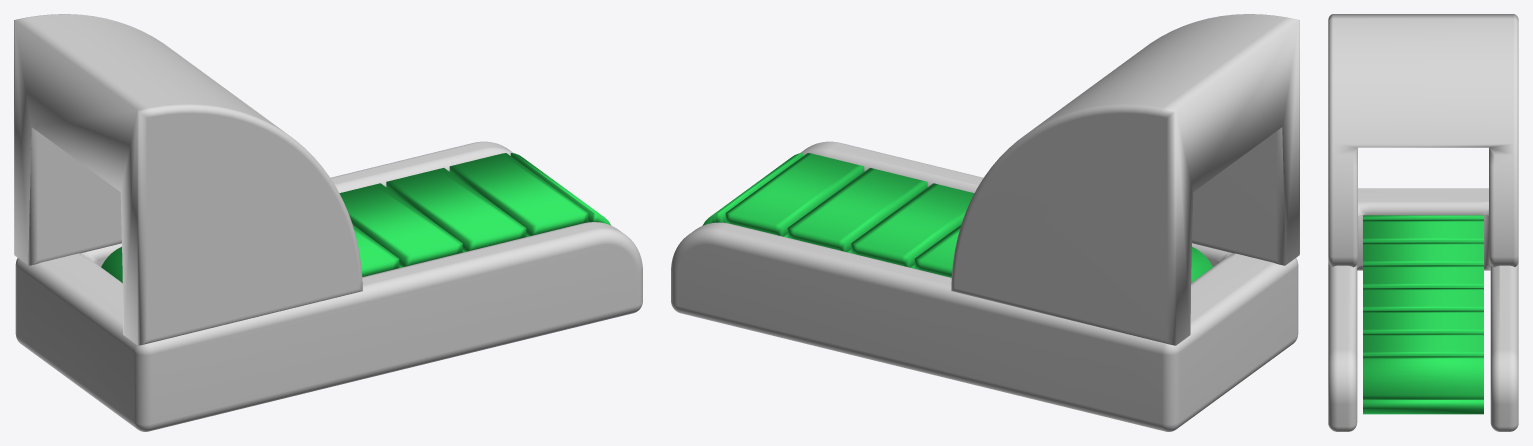
The model's file is TreadMill.fbx.
3 renders of one model, left to right at view 1: azimuth 30°, elevation 25°; view 2: azimuth 150°, elevation 25°; view 3: azimuth 270°, elevation 25°, orthographic. The views are drawn at different scales.
Parts seen in each view (by area): view 1: Cube.024, Cube.011, Plane.001; view 2: Cube.024, Cube.011, Plane.001; view 3: Cube.024, Plane.001, Cube.011.
Boxes of the visible parts, x1,y1,x2,y2 form: Cube.024: [14, 14, 362, 345]; Cube.011: [15, 141, 642, 431]; Plane.001: [101, 153, 611, 282]; Cube.024: [951, 14, 1299, 345]; Cube.011: [671, 141, 1298, 431]; Plane.001: [702, 153, 1212, 282]; Cube.024: [1328, 14, 1518, 267]; Plane.001: [1363, 215, 1483, 414]; Cube.011: [1328, 188, 1518, 431].
Size of the model in its own units: 452 by 277 by 200.
